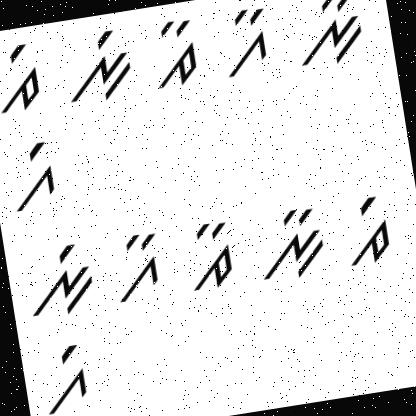gan: (209, 3, 273, 81), (110, 227, 171, 304)
gang: (0, 135, 63, 220), (35, 336, 96, 416)
ngan: (254, 202, 330, 286), (289, 0, 369, 68)
ngang: (20, 231, 101, 320), (58, 24, 138, 110)
tan: (144, 13, 206, 90), (178, 214, 238, 292)
tang: (338, 186, 402, 272), (0, 38, 44, 117)
